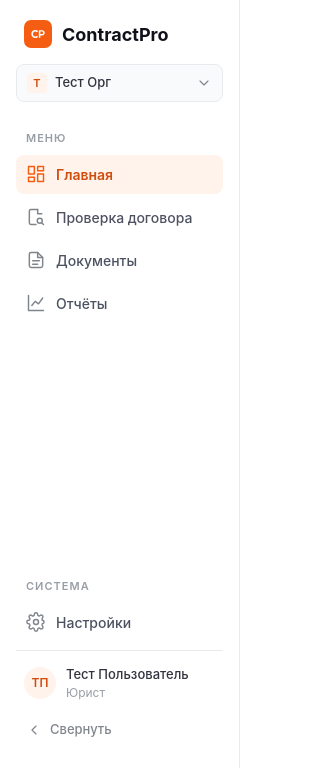
Test: <SidebarNavigation> — collapsed/expanded toggle › клик по toggle переключает sidebarCollapsed в store
The image size is (320, 768).
Click the button with test id "sidebar-collapse-toggle". click: (120, 730)
box: [16,712,223,748]
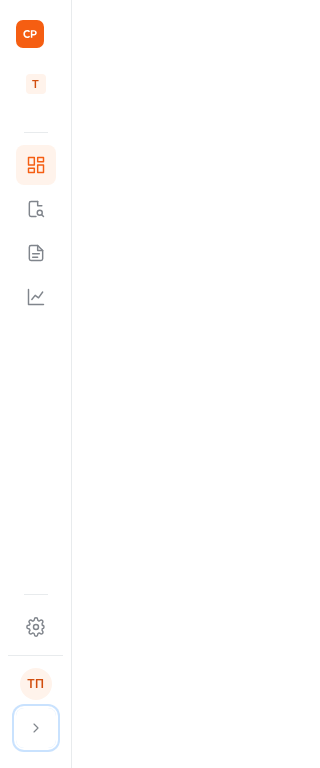
Now the button with test id "sidebar-collapse-toggle" is collapsed, box [16,708,56,748]
